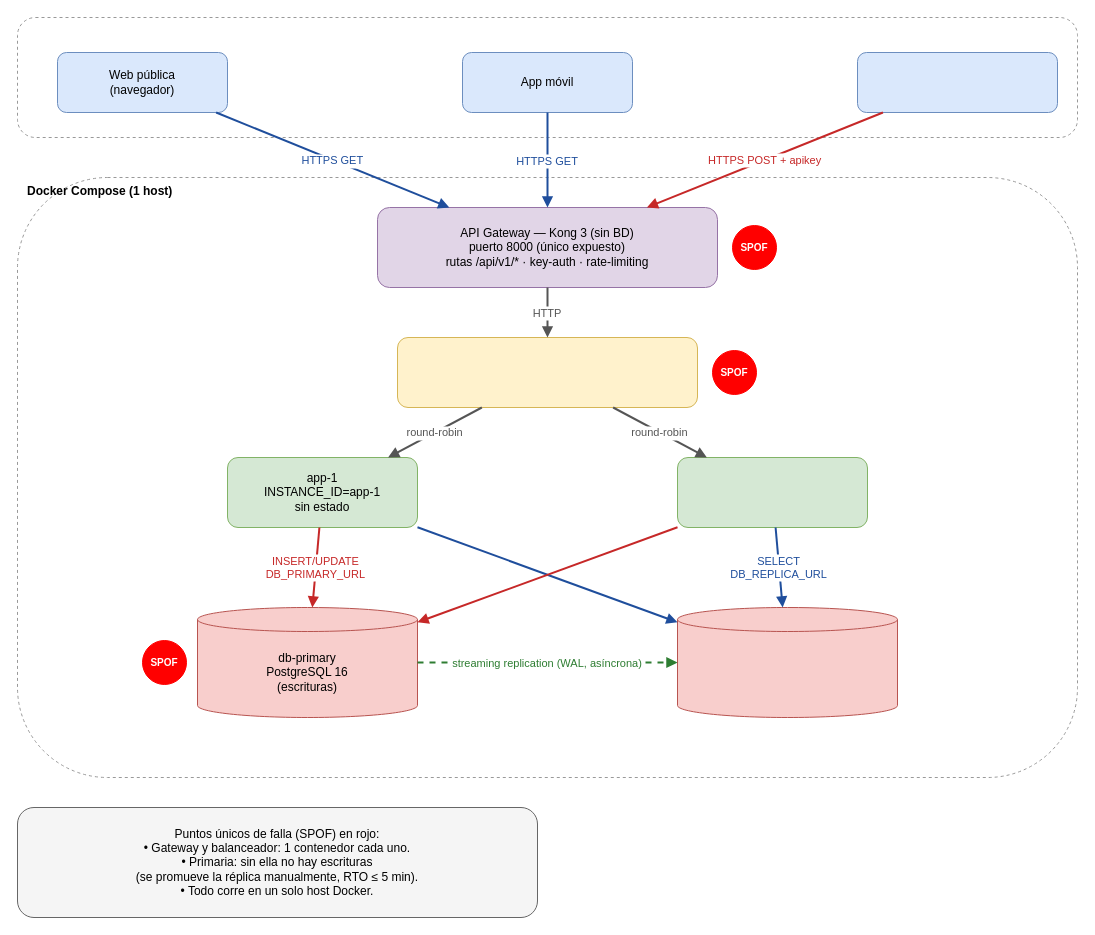
Some shapes in this 1095 by 935 pixel diagram are drawn without their labels. Here are the shapes that lost their labels. From the top down, the box of each, then its label:
(16, 16, 1078, 138): Internet (clientes)
(856, 52, 1058, 112): POS de los 120 locales (sistema externo, API key)
(396, 336, 698, 408): Balanceador — NGINX upstream round-robin max_fails=1 fail_timeout=10s
(676, 456, 868, 528): app-2 INSTANCE_ID=app-2 sin estado
(676, 606, 898, 718): db-replica PostgreSQL 16 hot standby (lecturas)
